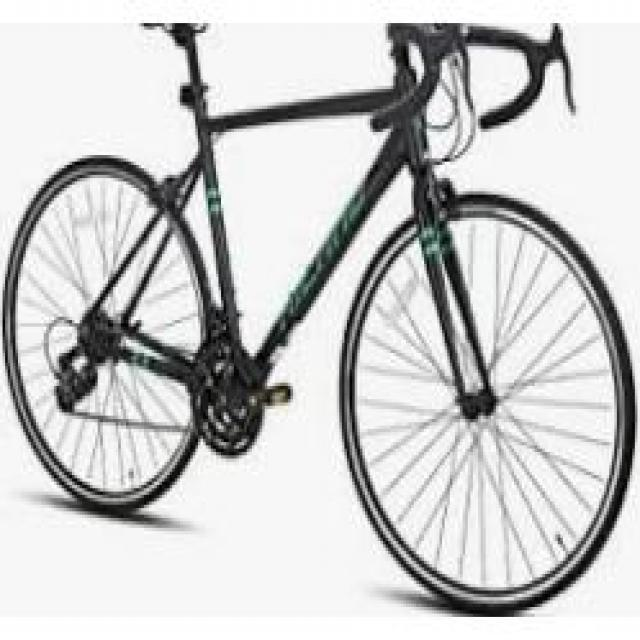bicycle: (19, 21, 636, 579)
